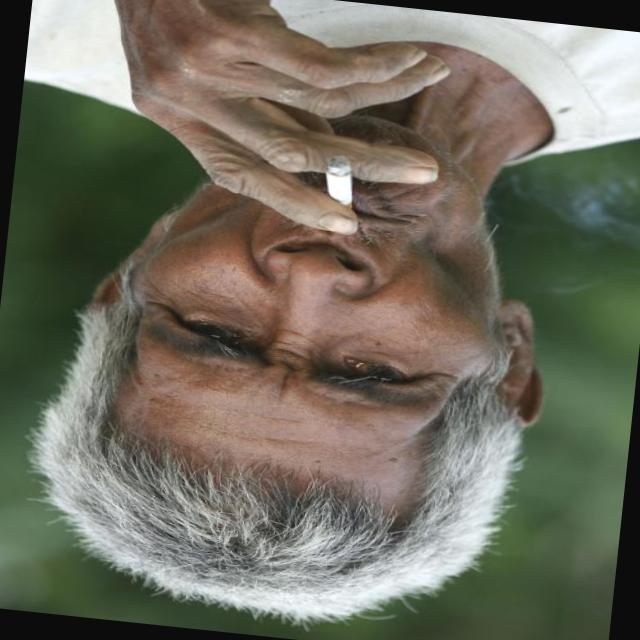smoke: (321, 156, 357, 206)
